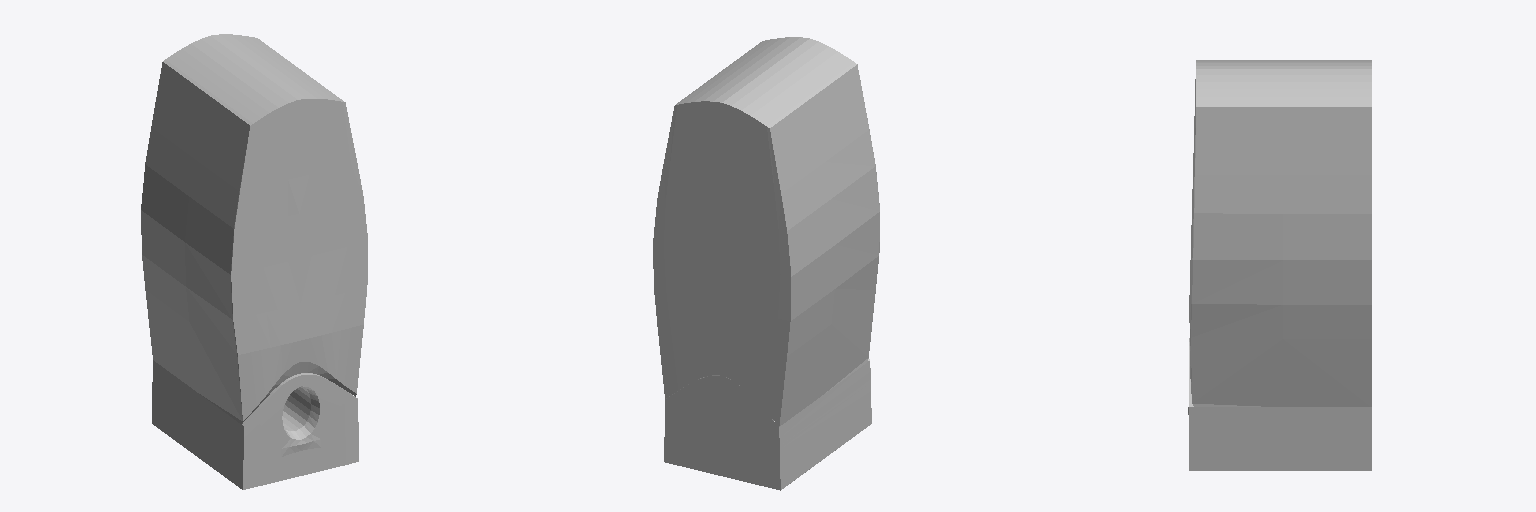
File: Haut_Parleur.obj
3 views of the same model, side by side, from view 1: azimuth 30°, elevation 25°; view 2: azimuth 150°, elevation 25°; view 3: azimuth 270°, elevation 25° (orthographic).
Parts seen in each view (by area): view 1: Speaker; view 2: Speaker; view 3: Speaker.
Boxes of the visible parts, box(x1,y1,x2,y2) form: Speaker: box(141, 34, 367, 489); Speaker: box(653, 37, 879, 490); Speaker: box(1188, 60, 1371, 470).
Size of the model in its own units: 1.47 by 3.78 by 1.68.